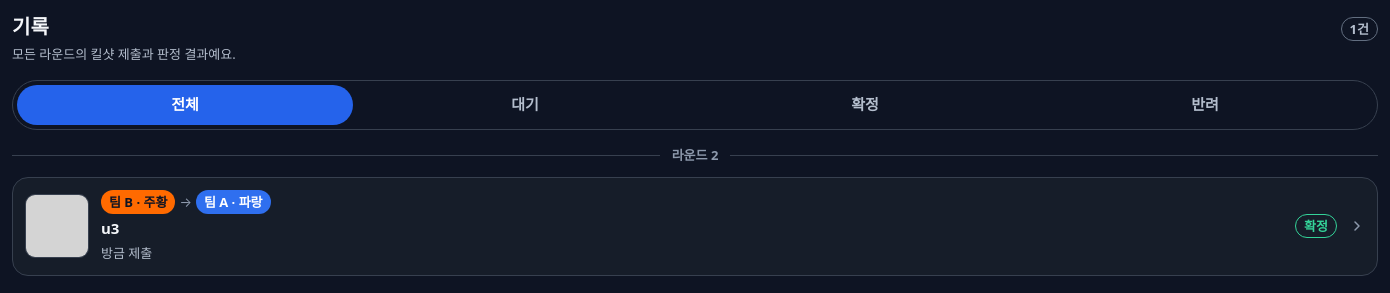
it: RecordLogList › 조건에 맞는 기록이 없으면 필터 빈 상태를 보여준다
Click the radio button labelled "반려" at point(1205, 105), box [1037, 85, 1373, 125]
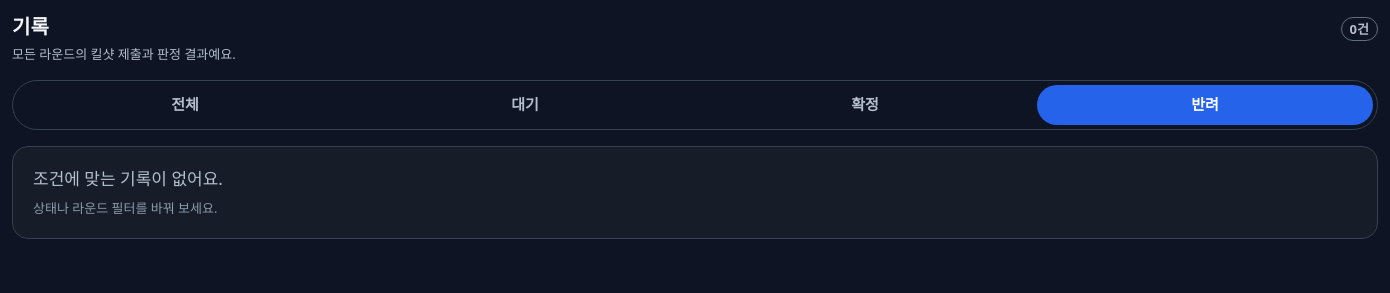
Expected: the text "조건에 맞는 기록이 없어요." is shown, [33, 167, 223, 190]
